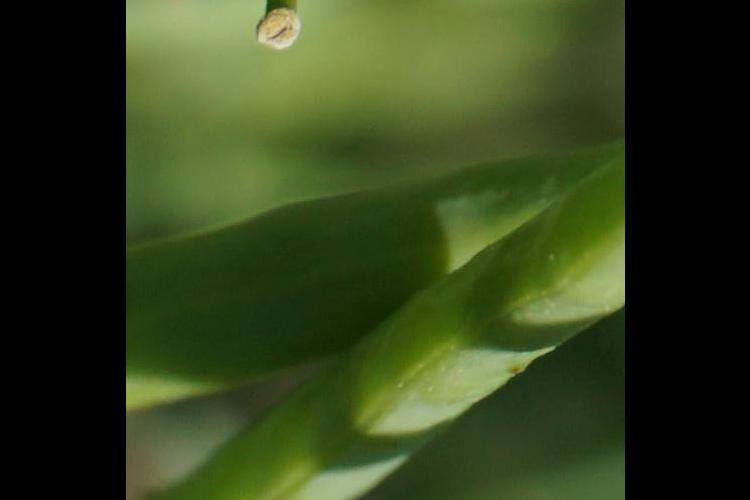pod: (250, 1, 349, 64)
